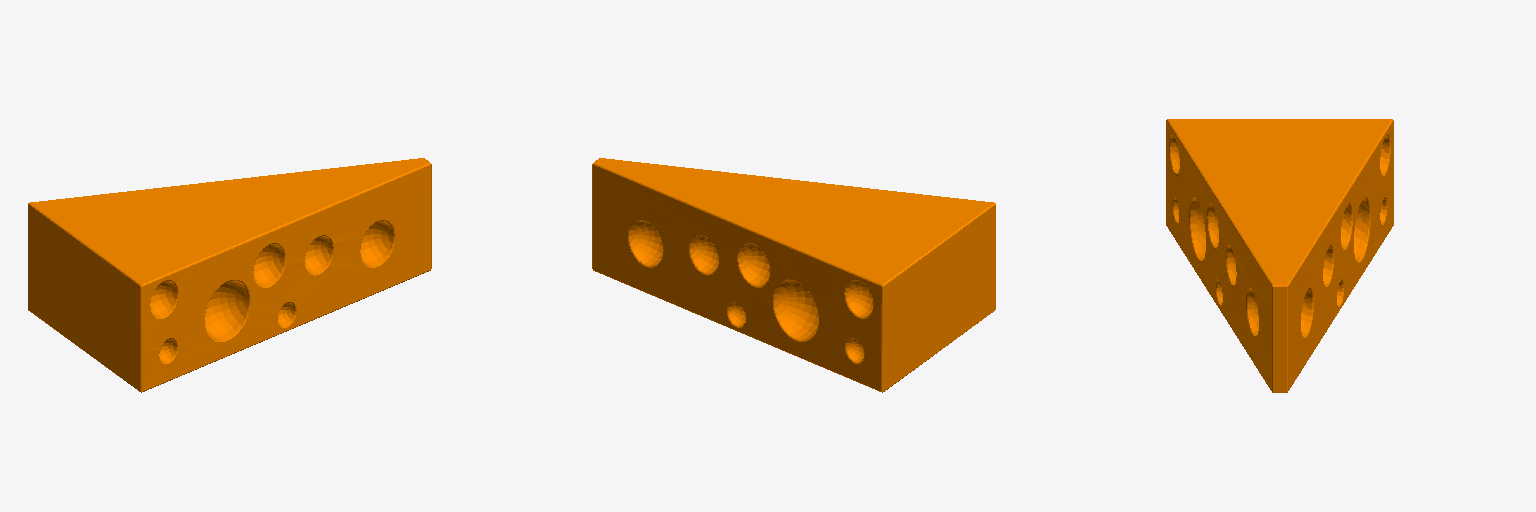
3 views of the same model, side by side, from view 1: azimuth 30°, elevation 25°; view 2: azimuth 150°, elevation 25°; view 3: azimuth 270°, elevation 25° (orthographic).
Parts seen in each view (by area): view 1: cheese; view 2: cheese; view 3: cheese.
Boxes of the visible parts, x1=… form: cheese: x1=28, y1=158, x2=431, y2=392; cheese: x1=592, y1=158, x2=995, y2=392; cheese: x1=1166, y1=119, x2=1393, y2=392.
Bounding box in the file's own units: 3.92 × 1.18 × 2.25.
1 materials, 1 textured.